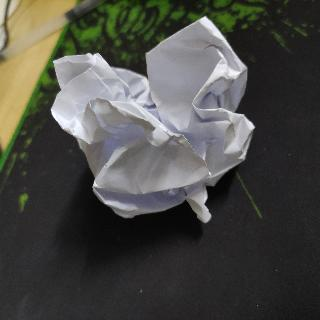8/可回收垃圾/纸: (49, 14, 257, 225)
